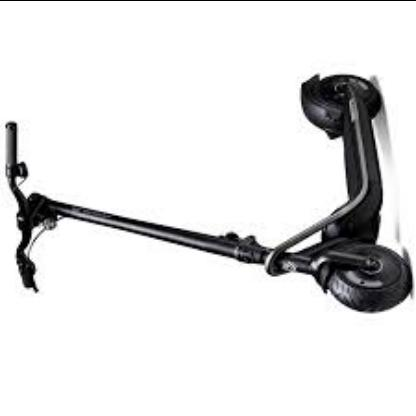bike: (11, 73, 414, 315)
